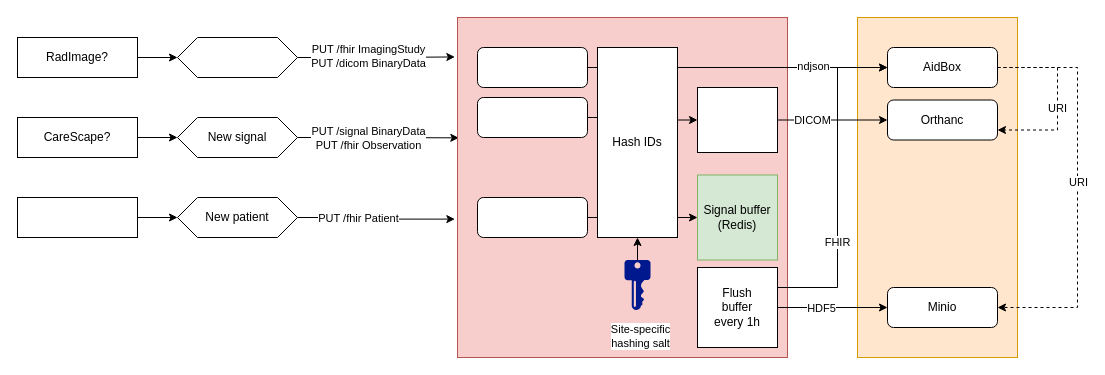
Image size: 1105x375. Some labels were removed from this diagram. The centre of each missing label's shape, as x and y in pixels:
"De-identify DICOM" goes at pixel 737 119.
"New image" goes at pixel 237 57.
"New PCR test" goes at pixel 77 217.
"PUT /fhir" goes at pixel 532 67.
"PUT /image" goes at pixel 532 117.
"PUT /signal" goes at pixel 532 217.
